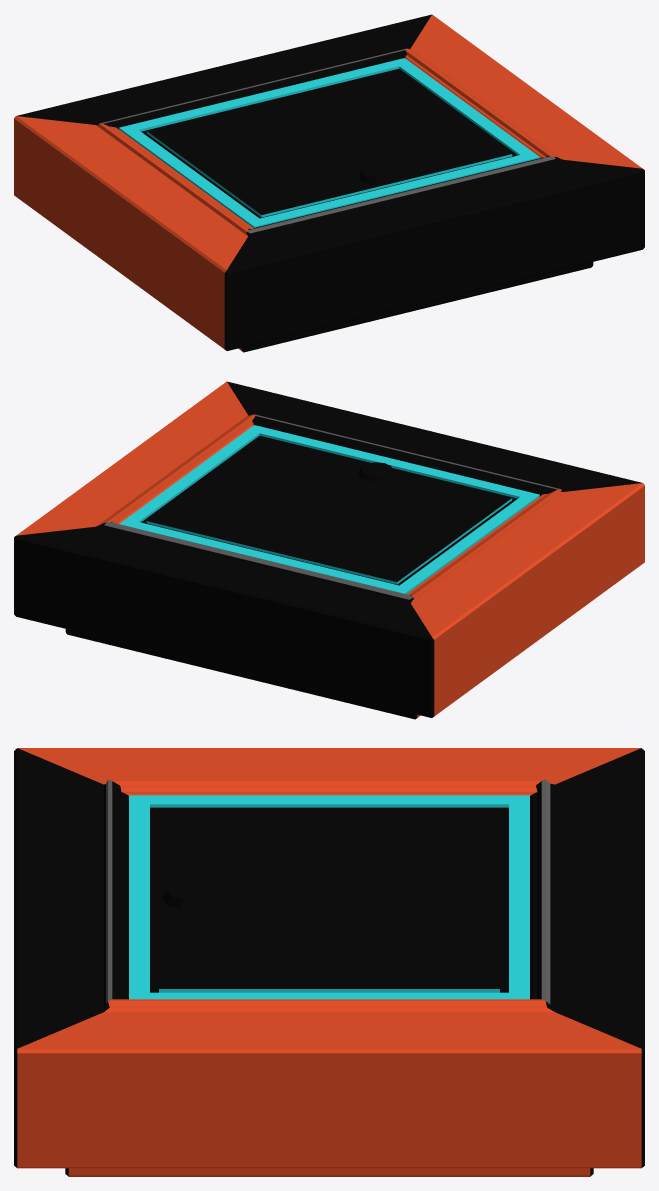
File: electric box.fbx
The picture shows the model from 3 angles, top to bottom: view 1: azimuth 30°, elevation 25°; view 2: azimuth 150°, elevation 25°; view 3: azimuth 270°, elevation 25°; orthographic projection. The views are drawn at different scales.
Visible parts, largest first — view 1: electric box, Plane.004; view 2: electric box, Plane.004; view 3: electric box, Plane.004.
Boxes of the visible parts, bbox=[...] form: electric box: bbox=[14, 14, 644, 352]; Plane.004: bbox=[119, 58, 539, 227]; electric box: bbox=[14, 381, 644, 719]; Plane.004: bbox=[119, 425, 539, 594]; electric box: bbox=[14, 748, 644, 1176]; Plane.004: bbox=[129, 795, 529, 999].
Size of the model in its own units: 79.12 by 19.65 by 69.51.
